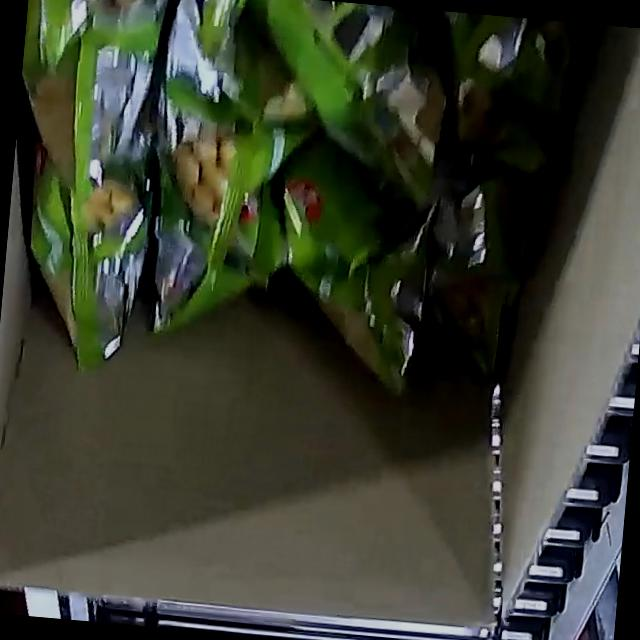yogurt: (0, 0, 624, 420)
